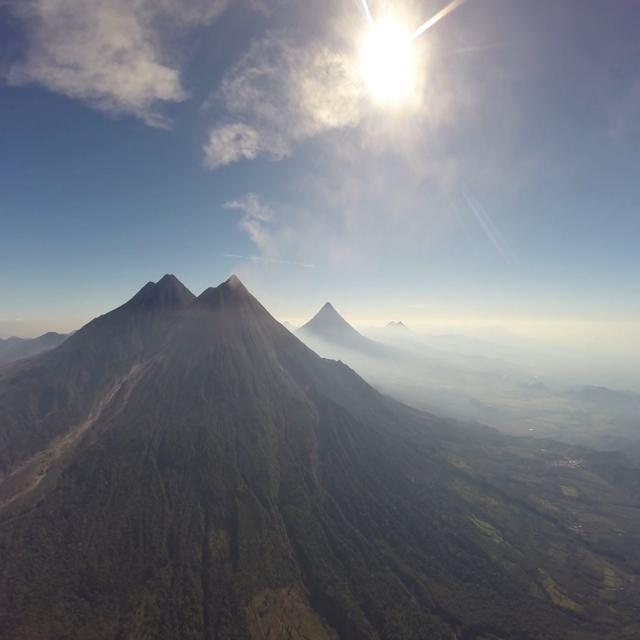Summit: (217, 272, 245, 290)
